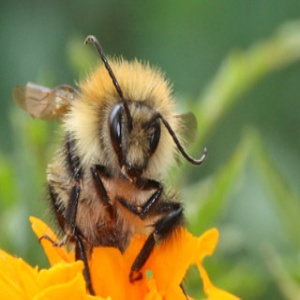bee: (38, 38, 188, 280)
